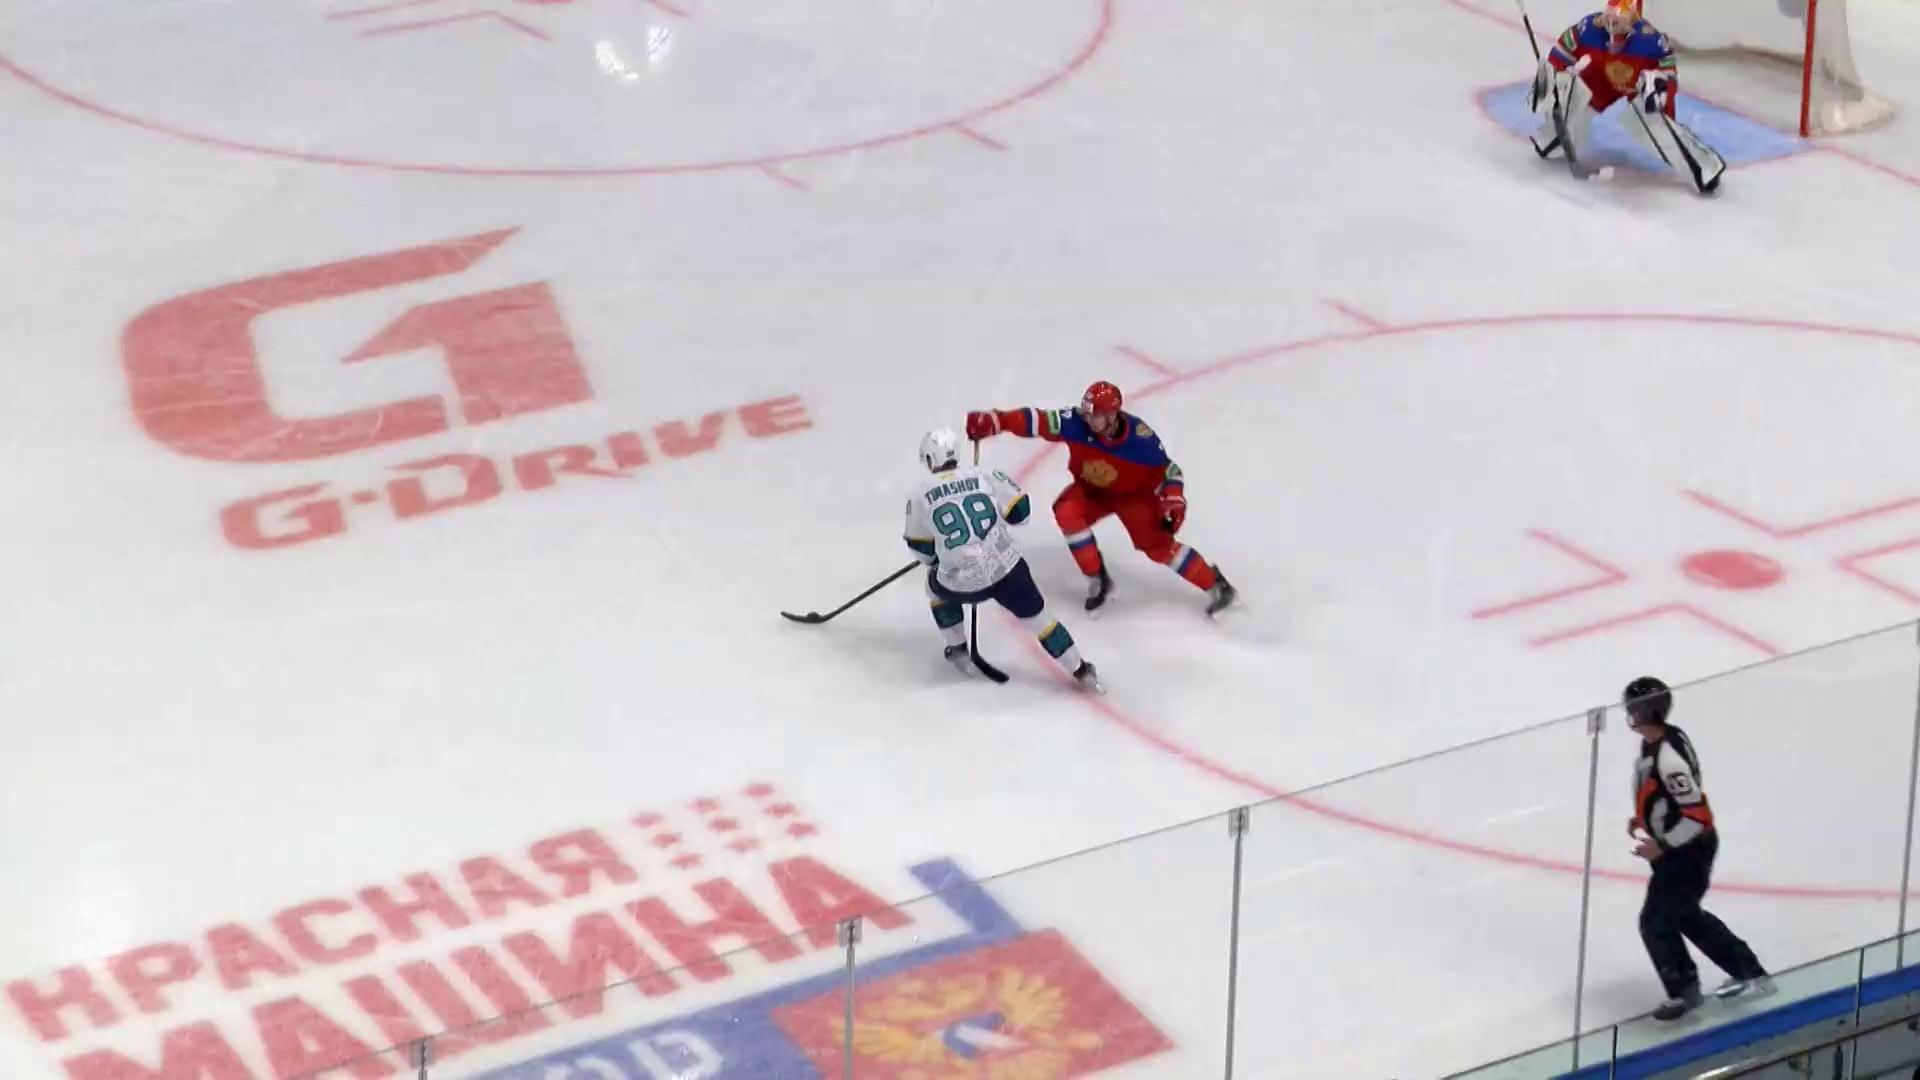ball: (806, 612, 822, 618)
